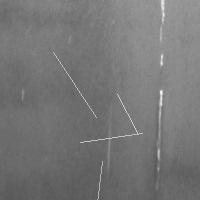scratches: (48, 47, 101, 122), (112, 89, 143, 139), (75, 128, 147, 147), (153, 87, 167, 176), (91, 156, 107, 200)
